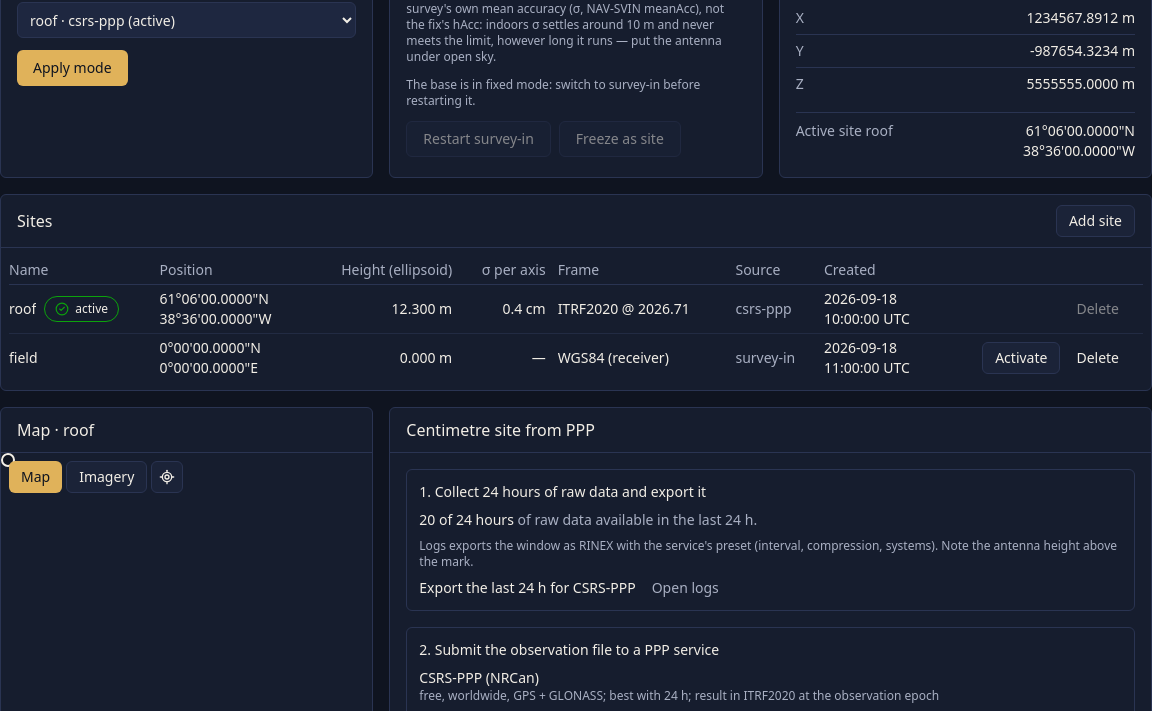
Test case: Site page › says when the follow-up persist fails, with the detail
(page scrolled)
Step 1. Click the button "Activate" → (1021,358), box [982,342,1060,374]
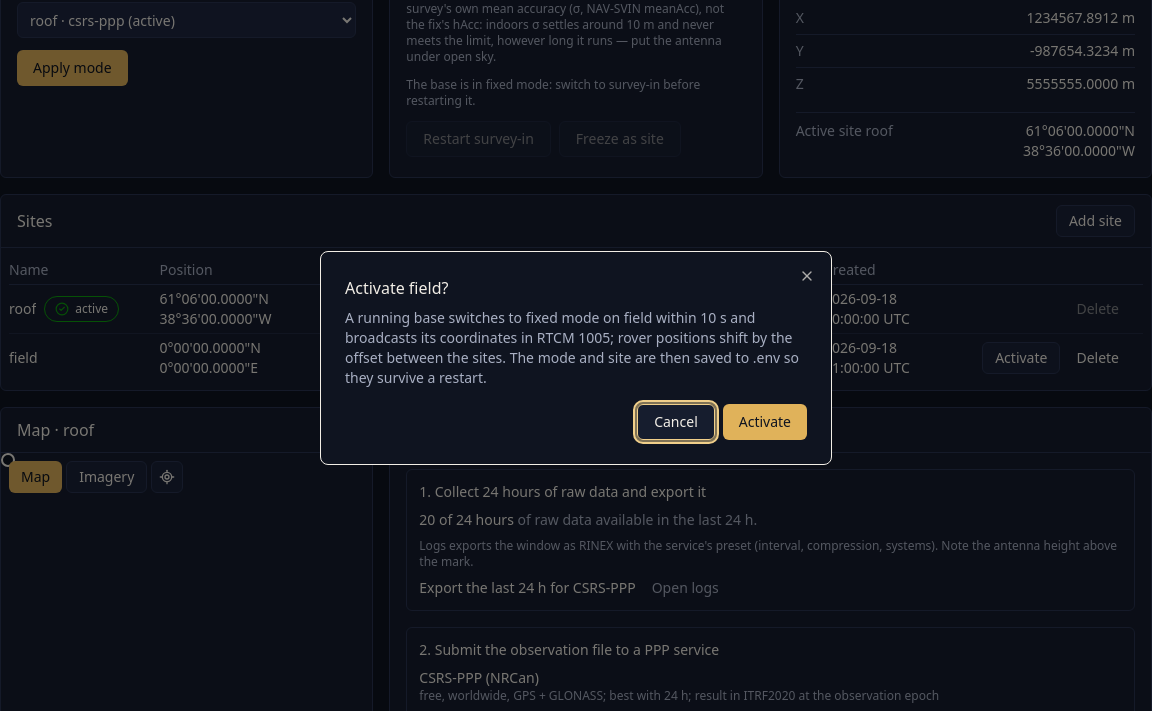
Step 2. Click the button "Activate" → (765,422), box [723,404,807,440]
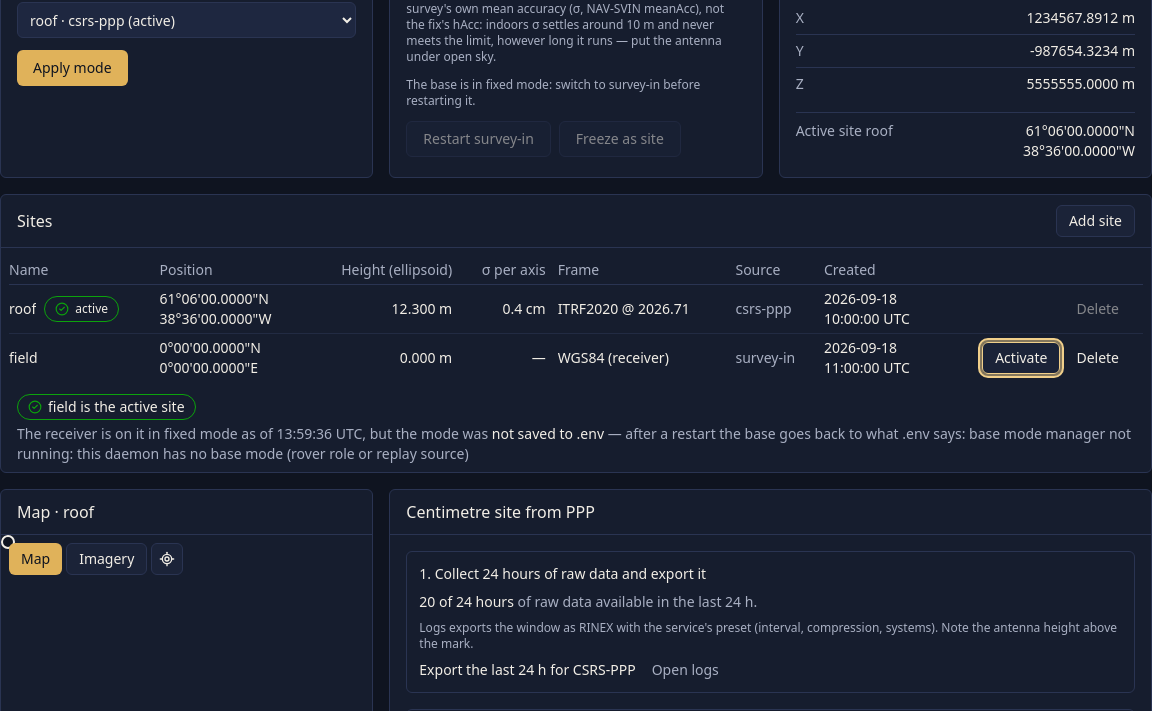
Now the message named "site result" shows "field is the active site", box [48,397,184,416]
Now the message named "site result" shows "not saved to .env", box [492,424,604,443]
Now the message named "site result" shows "base mode manager not running: this daemon has no base mode (rover role or replay source)", box [17,424,1131,463]
